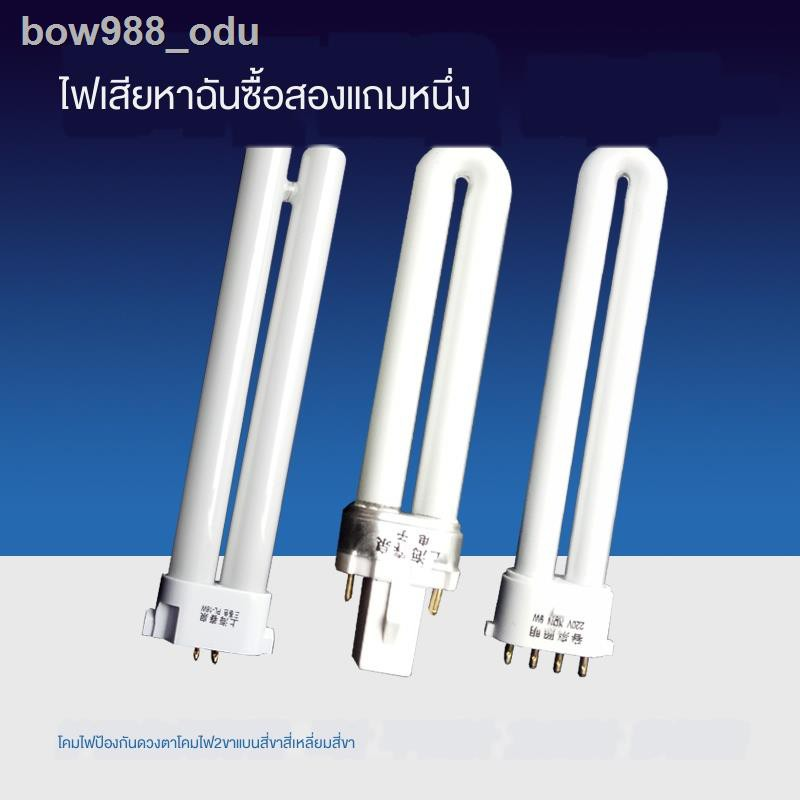Light_bulb: (138, 144, 352, 674), (331, 142, 524, 690), (496, 147, 674, 685)
